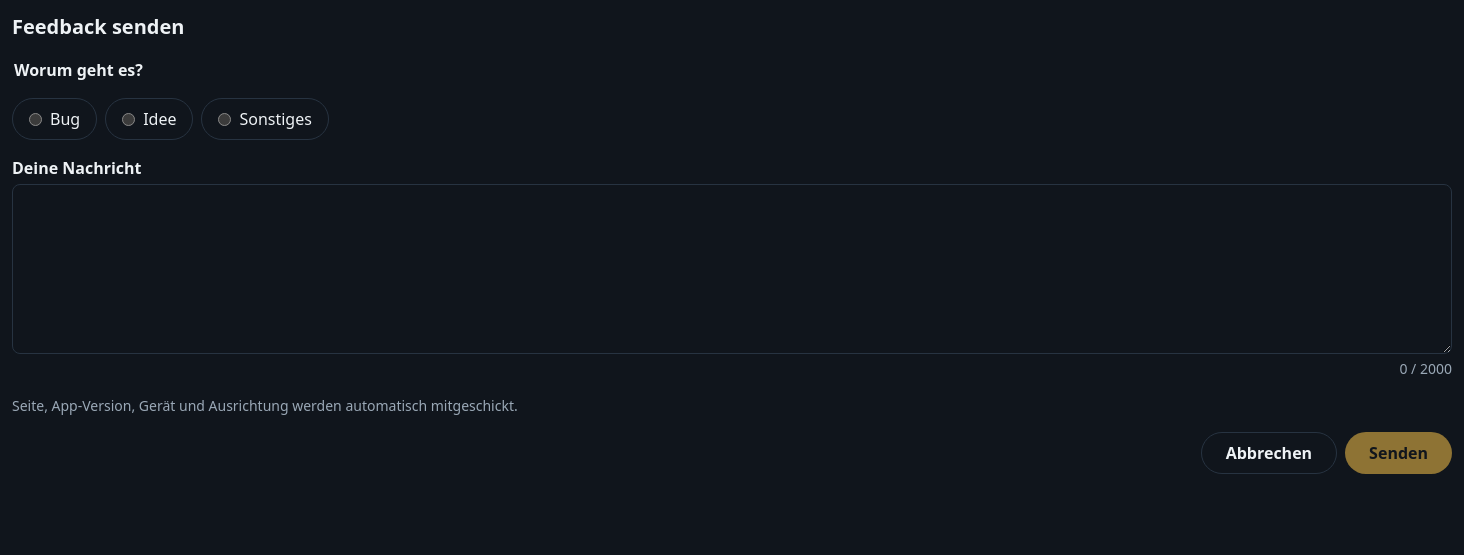
Test case: FeedbackForm › zeigt Fehler des Servers (z. B. Rate-Limit) und behält die Eingabe
Click the radio button labelled "Sonstiges": {"x": 225, "y": 119} x1=218 y1=112 x2=232 y2=126
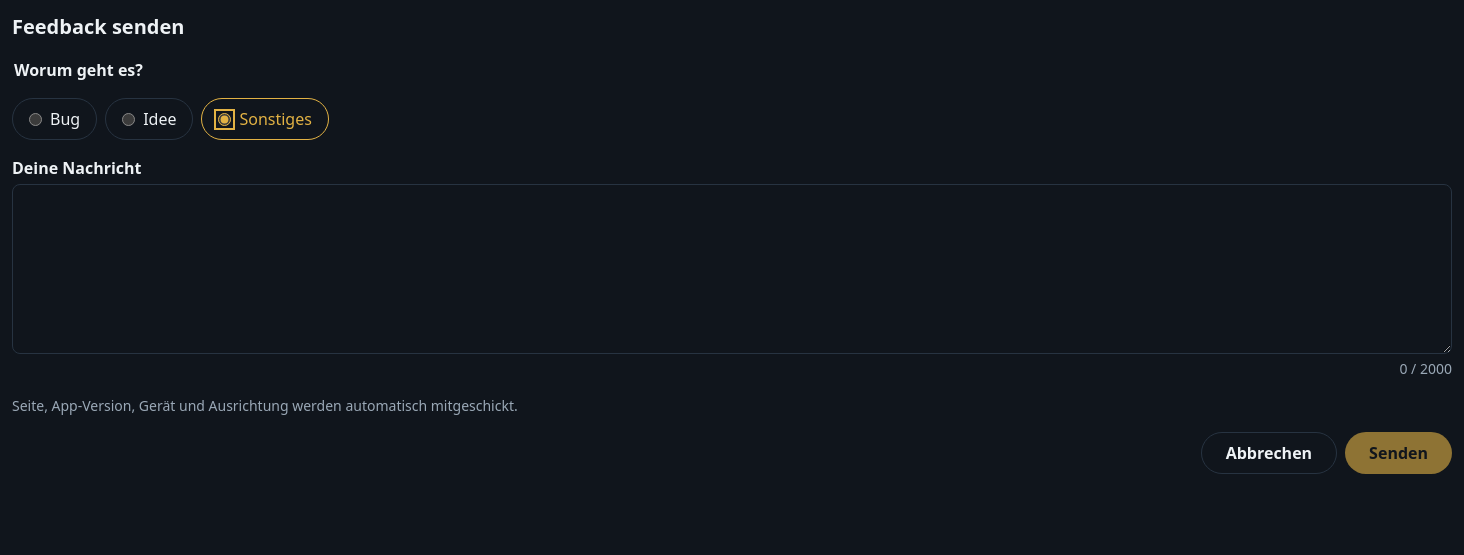
In the text box labelled "Deine Nachricht": {"x": 732, "y": 269} x1=12 y1=184 x2=1452 y2=354, type "Hallo"
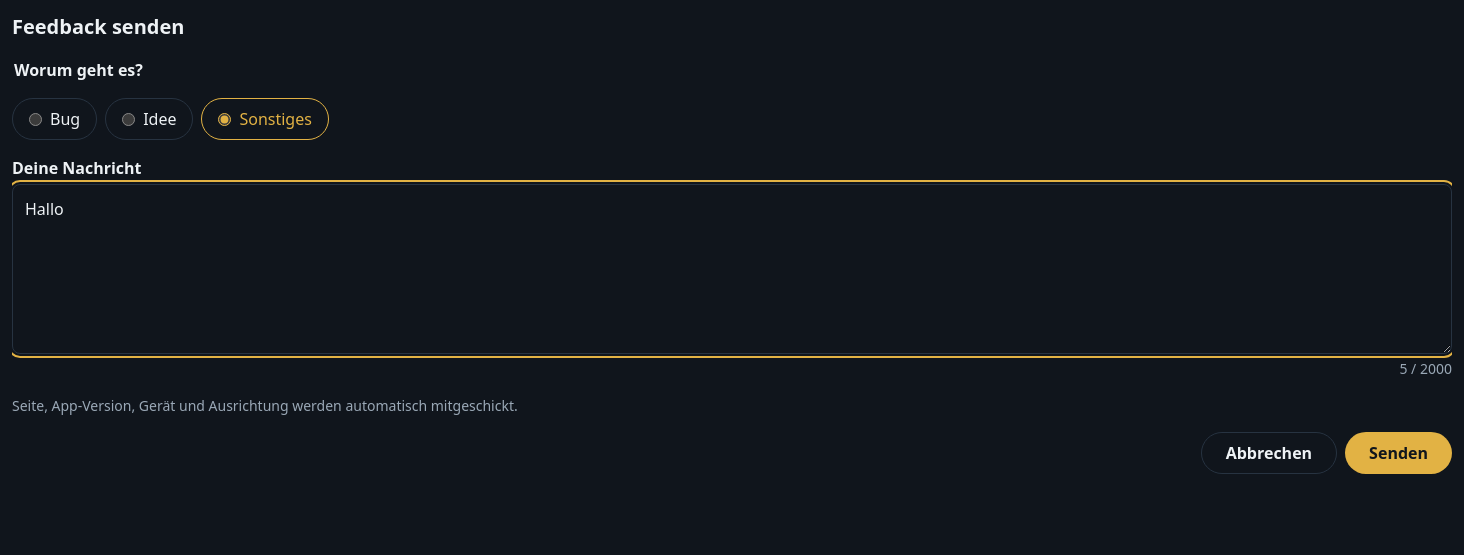
Click the button "Senden": {"x": 1399, "y": 453} x1=1345 y1=432 x2=1452 y2=474
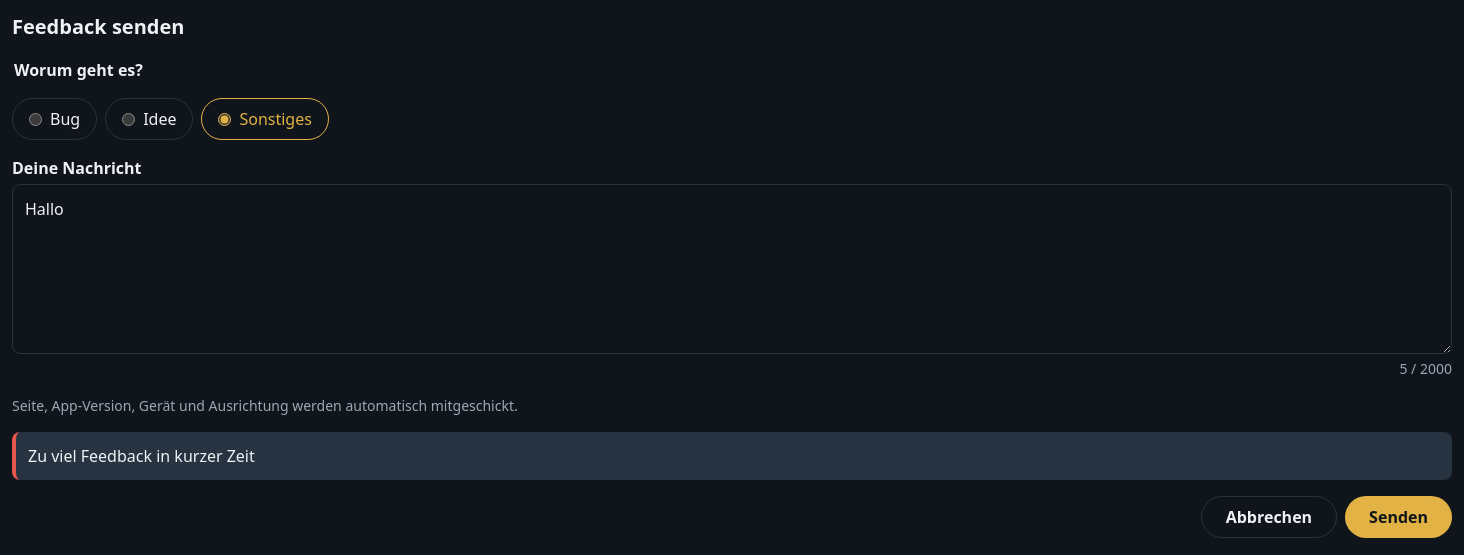
Now the radio button labelled "Sonstiges" is checked, box x1=218 y1=112 x2=232 y2=126
Now the message reads "Zu viel Feedback in kurzer Zeit", box x1=28 y1=445 x2=255 y2=467
